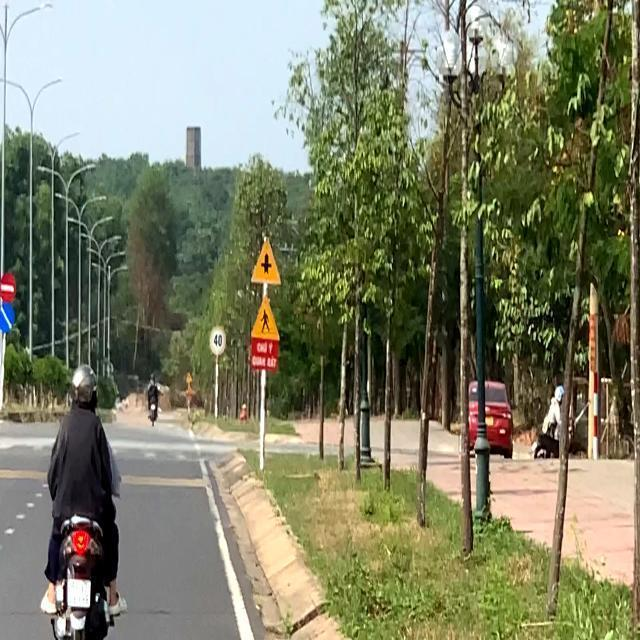102-cam-di-nguoc-chieu: (1, 270, 17, 302)
127-toc-do-toi-da-40: (208, 325, 228, 355)
205-duong-giao-nhau: (250, 236, 282, 288)
245-di-cham: (250, 296, 282, 342)
302a-huong-phai-di-vong-chuong-ngai-vat-1: (1, 306, 15, 334)
